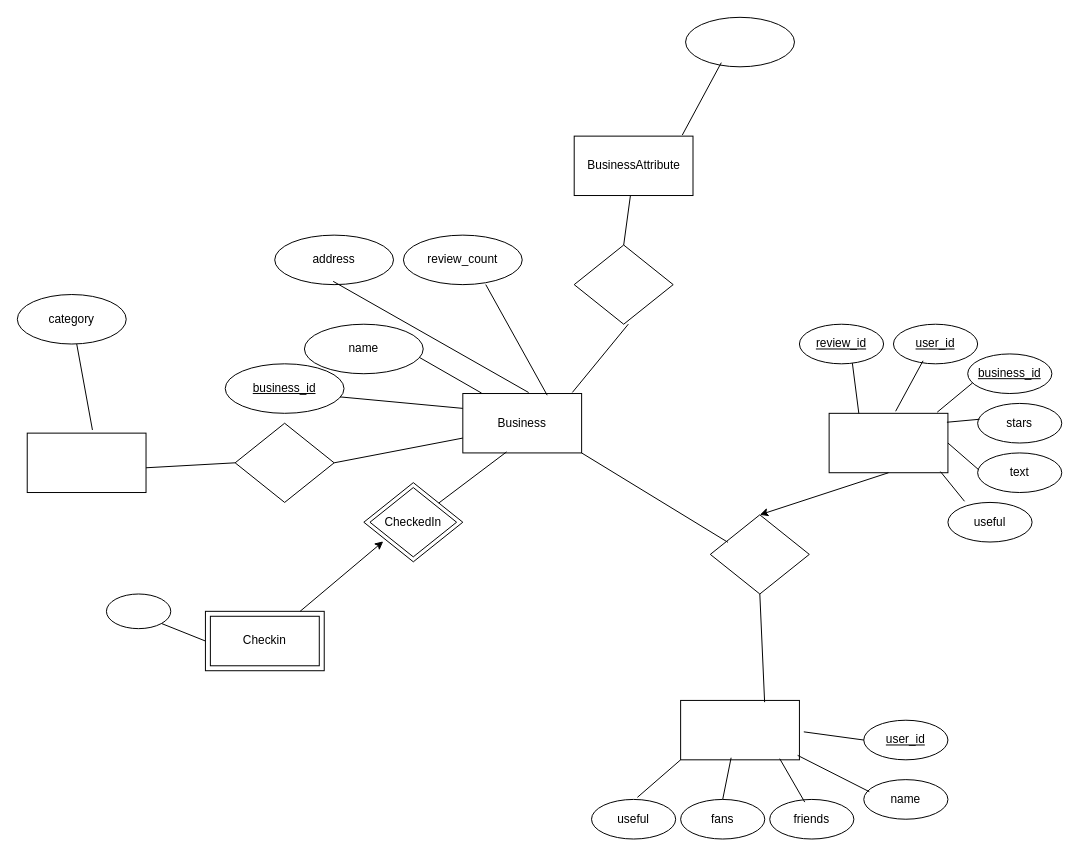
The diagram is 1079 pixels wide and 856 high, and some of its shapes have lost their labels. The shapes that lost their labels are listed below. From the top down, each one's centre as x and y in pixels, then its label:
point (739, 41): attribute
point (623, 284): Has
point (86, 462): BusinessCategory
point (284, 462): Categorized
point (888, 442): Review
point (759, 554): Writes
point (138, 611): time
point (739, 729): User
